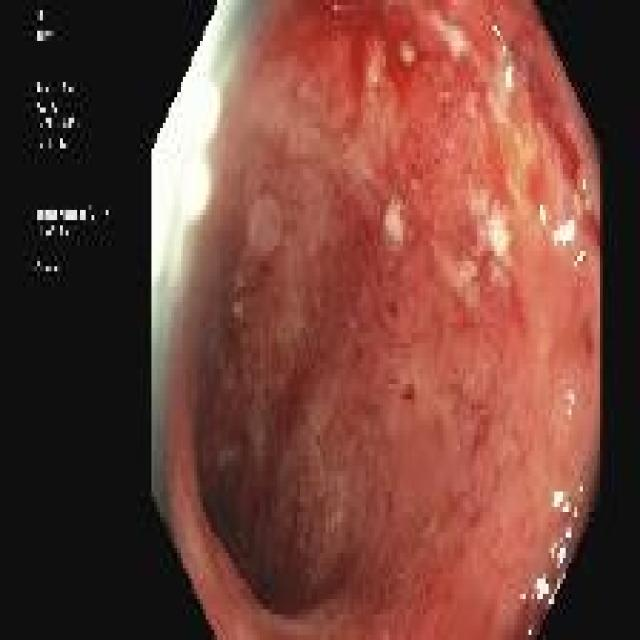ulcerative-colitis: (168, 2, 600, 637)
